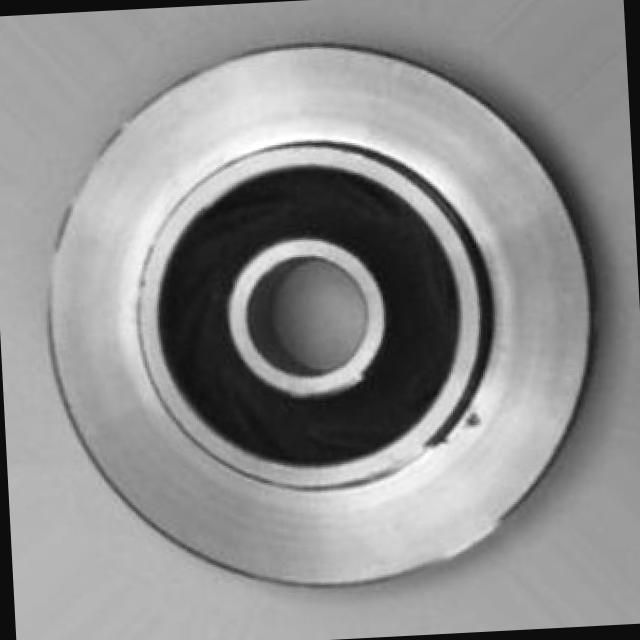Defect: (460, 410, 487, 435)
